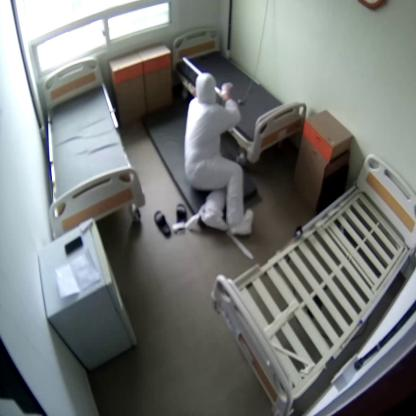Person: (185, 74, 254, 235)
